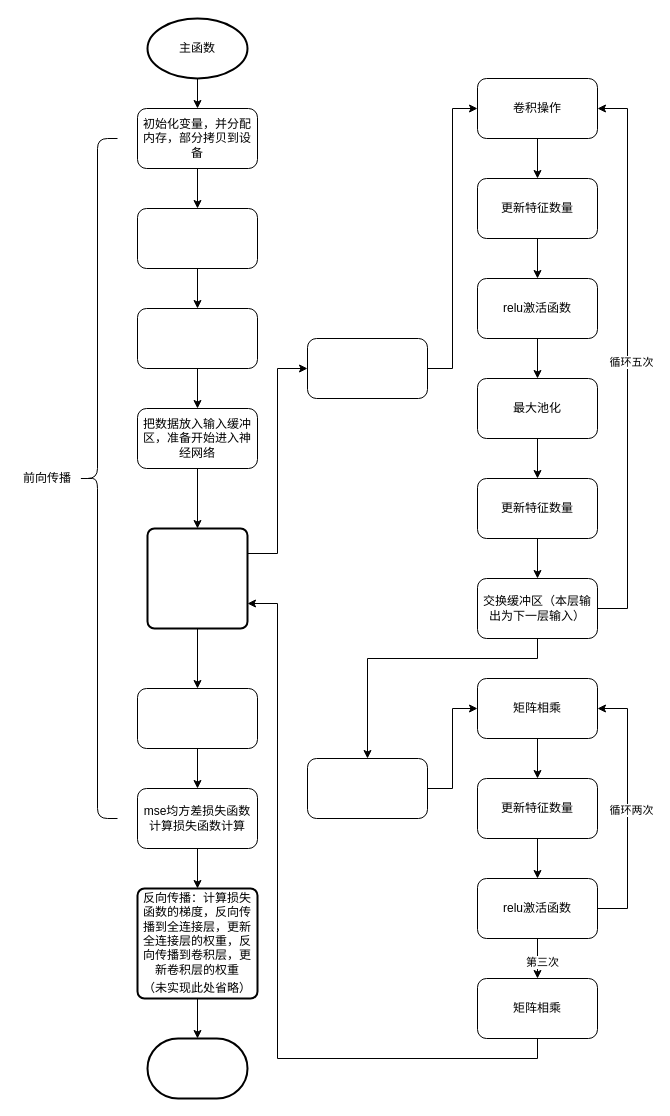
This 670x1116 diagram has some shape labels left out. Each missing label, with the box of its shape:
softmax归一化: (136, 688, 258, 748)
全连接层: (306, 758, 428, 818)
初始化过滤器和权重矩阵: (136, 208, 258, 268)
卷积层: (306, 338, 428, 398)
根据卷积层和池化层的大小初始化数据缓冲区，用于输入输出的交换: (136, 308, 258, 368)
神经网络部分: (146, 527, 248, 629)
释放内存，主函数结束: (146, 1037, 248, 1099)
